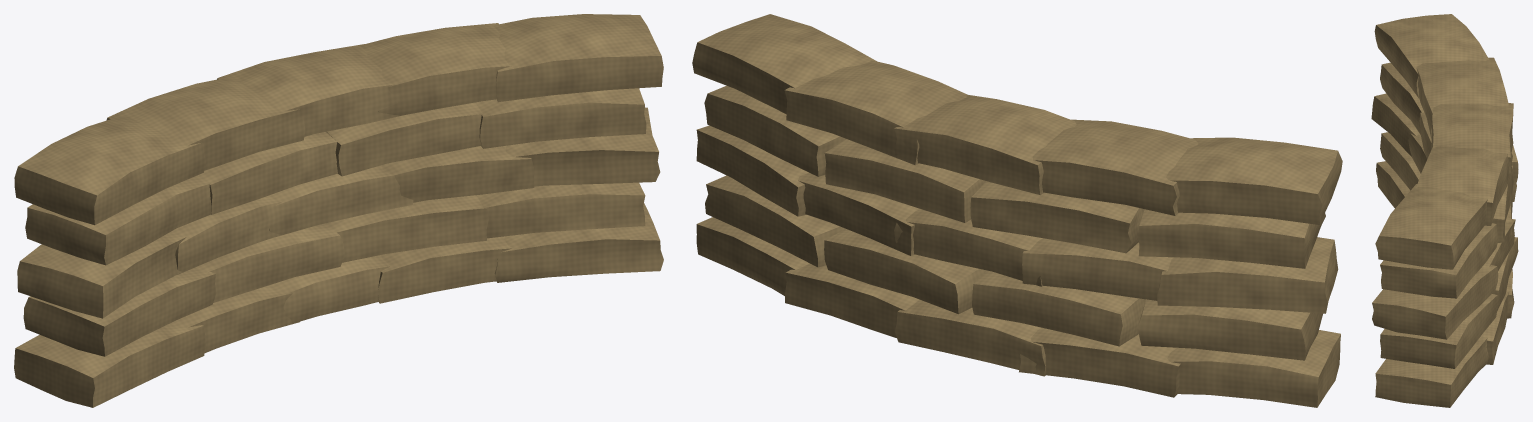
File: COV_Sandbag_Wall_Curved.glb
The picture shows the model from 3 angles, left to right: view 1: azimuth 30°, elevation 25°; view 2: azimuth 150°, elevation 25°; view 3: azimuth 270°, elevation 25°; orthographic projection. The views are drawn at different scales.
Parts seen in each view (by area): view 1: COV_Sandbag_Wall_Curved_Mesh; view 2: COV_Sandbag_Wall_Curved_Mesh; view 3: COV_Sandbag_Wall_Curved_Mesh.
Boxes of the visible parts, x1,y1,x2,y2 form: COV_Sandbag_Wall_Curved_Mesh: [14, 14, 663, 407]; COV_Sandbag_Wall_Curved_Mesh: [692, 14, 1342, 407]; COV_Sandbag_Wall_Curved_Mesh: [1371, 14, 1518, 407].
Size of the model in its own units: 2.54 by 0.878 by 0.6708.
1 material, 1 textured.
